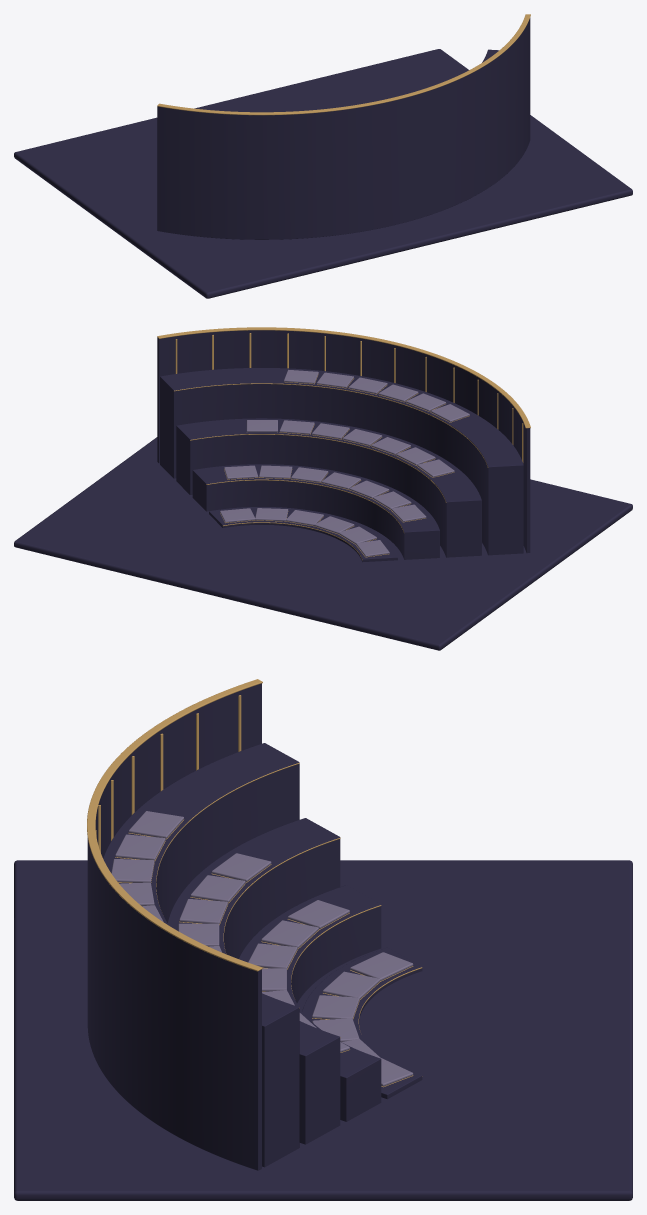
Rendered from BF_DisplayStage_26_v006.glb.
The picture shows the model from 3 angles, top to bottom: view 1: azimuth 30°, elevation 25°; view 2: azimuth 150°, elevation 25°; view 3: azimuth 270°, elevation 25°; orthographic projection. The views are drawn at different scales.
Parts seen in each view (by area): view 1: Stage_Indigo, Stage_Champagne; view 2: Stage_Indigo, Stage_Porcelain, Stage_Champagne; view 3: Stage_Indigo, Stage_Porcelain, Stage_Champagne.
Part boxes in pixels (bbox=[...]): Stage_Indigo: bbox=[14, 18, 632, 298]; Stage_Champagne: bbox=[157, 14, 530, 115]; Stage_Indigo: bbox=[14, 330, 632, 650]; Stage_Porcelain: bbox=[220, 369, 469, 556]; Stage_Champagne: bbox=[157, 327, 530, 560]; Stage_Indigo: bbox=[14, 683, 632, 1200]; Stage_Porcelain: bbox=[111, 811, 413, 1086]; Stage_Champagne: bbox=[87, 679, 422, 1087].
Size of the model in its own units: 28 by 8.28 by 22.
